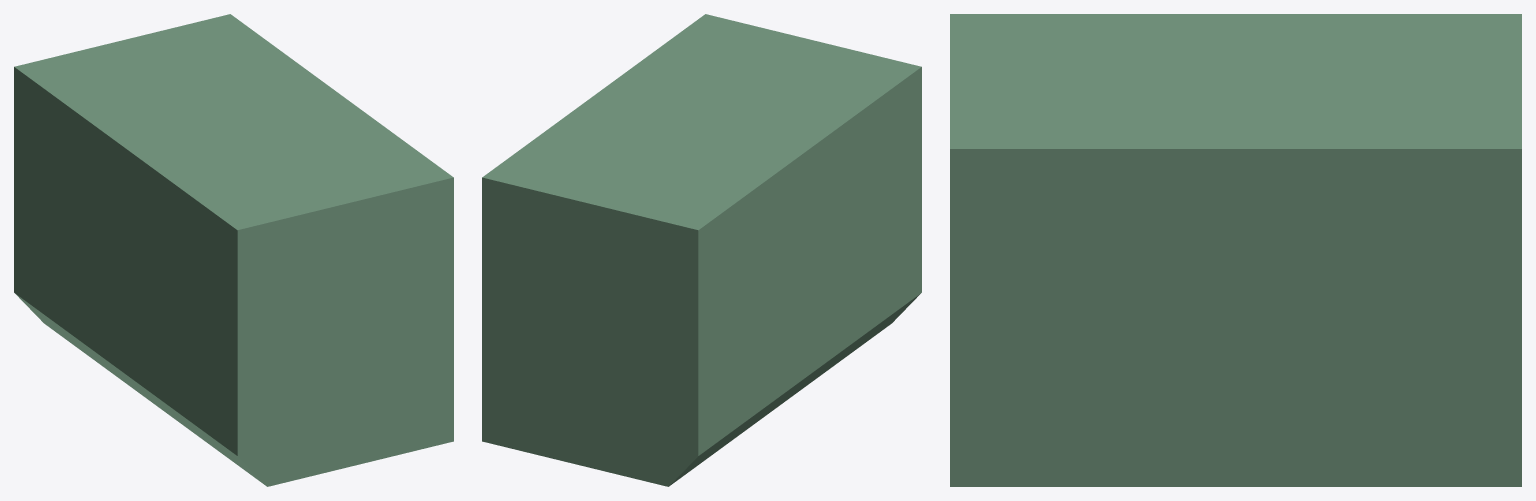
The picture shows the model from 3 angles, left to right: view 1: azimuth 30°, elevation 25°; view 2: azimuth 150°, elevation 25°; view 3: azimuth 270°, elevation 25°; orthographic projection. The views are drawn at different scales.
Parts seen in each view (by area): view 1: geometry_0; view 2: geometry_0; view 3: geometry_0.
Boxes of the visible parts, x1,y1,x2,y2 form: geometry_0: (14,14,453,486); geometry_0: (482,14,921,486); geometry_0: (950,14,1521,486).
Size of the model in its own units: 0.0224 by 0.0261 by 0.04.
